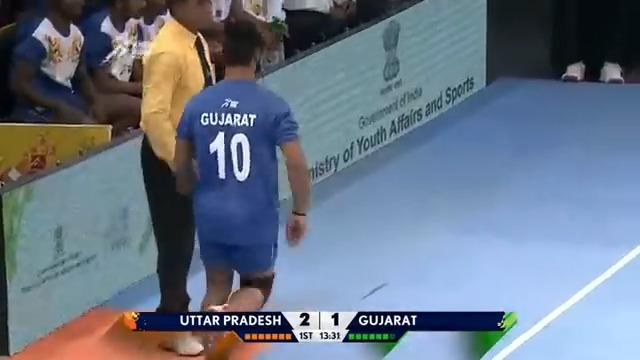Player: (171, 17, 312, 315)
referee: (137, 0, 219, 355)
